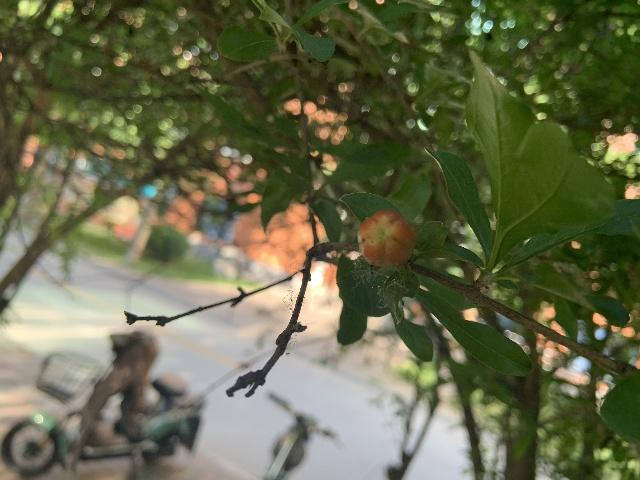bud: (357, 209, 415, 267)
